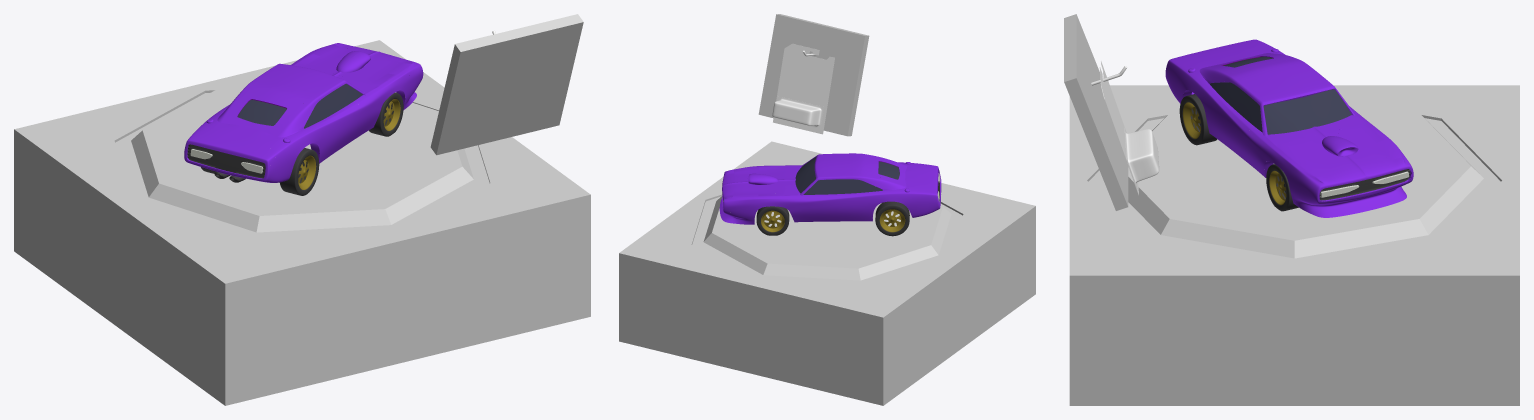
The model's file is racetrack.glb.
The picture shows the model from 3 angles, left to right: view 1: azimuth 30°, elevation 25°; view 2: azimuth 150°, elevation 25°; view 3: azimuth 270°, elevation 25°; orthographic projection. The views are drawn at different scales.
Visible parts, largest first — view 1: Circle.001, Circle, revolve#4, Plane.002; view 2: Circle.001, revolve#4, Circle, Plane.002, plane#3, offset; view 3: Circle.001, revolve#4, Circle, Plane.002, offset, plane#3.
Part boxes in pixels (x1,y1,x2,y2): Circle.001: [14, 40, 590, 405]; Circle: [131, 86, 473, 232]; revolve#4: [184, 43, 423, 195]; Plane.002: [430, 14, 583, 155]; Circle.001: [619, 141, 1035, 405]; revolve#4: [719, 153, 941, 236]; Circle: [703, 196, 951, 280]; Plane.002: [758, 14, 869, 136]; plane#3: [773, 43, 834, 134]; offset: [772, 96, 823, 129]; Circle.001: [1069, 85, 1519, 405]; revolve#4: [1165, 39, 1413, 217]; Circle: [1128, 100, 1483, 258]; Plane.002: [1064, 14, 1128, 210]; offset: [1124, 128, 1159, 188]; plane#3: [1099, 61, 1138, 195].
Size of the model in its own units: 0.5863 by 0.4639 by 0.5934.
